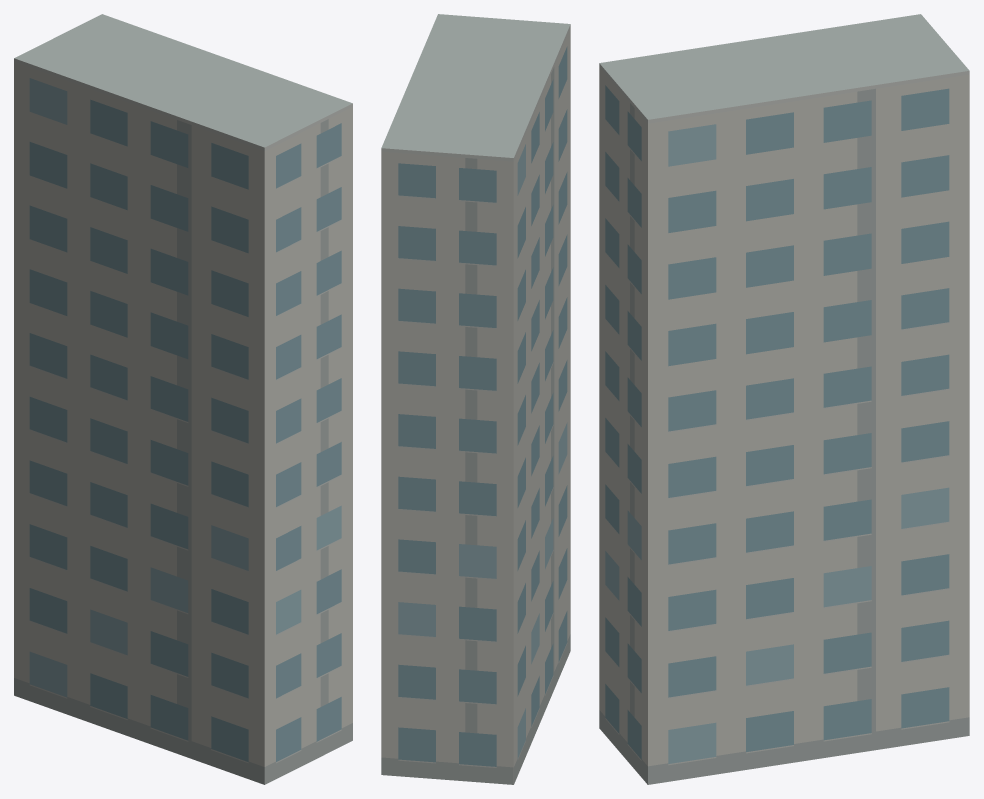
File: residential-e8ac0a0c-f4ed-436b-a85c-1bbaa8bd4d4a.glb
The picture shows the model from 3 angles, left to right: view 1: azimuth 30°, elevation 25°; view 2: azimuth 150°, elevation 25°; view 3: azimuth 270°, elevation 25°; orthographic projection. The views are drawn at different scales.
Visible parts, largest first — view 1: residential-e8ac0a0c-f4ed-436b-a85c-1bbaa8bd4d4a.tmp; view 2: residential-e8ac0a0c-f4ed-436b-a85c-1bbaa8bd4d4a.tmp; view 3: residential-e8ac0a0c-f4ed-436b-a85c-1bbaa8bd4d4a.tmp.
Boxes of the visible parts, box(x1,y1,x2,y2) form: residential-e8ac0a0c-f4ed-436b-a85c-1bbaa8bd4d4a.tmp: box(14, 14, 352, 784); residential-e8ac0a0c-f4ed-436b-a85c-1bbaa8bd4d4a.tmp: box(381, 14, 570, 784); residential-e8ac0a0c-f4ed-436b-a85c-1bbaa8bd4d4a.tmp: box(599, 14, 969, 784).
Size of the model in its own units: 15.03 by 44 by 22.22.
